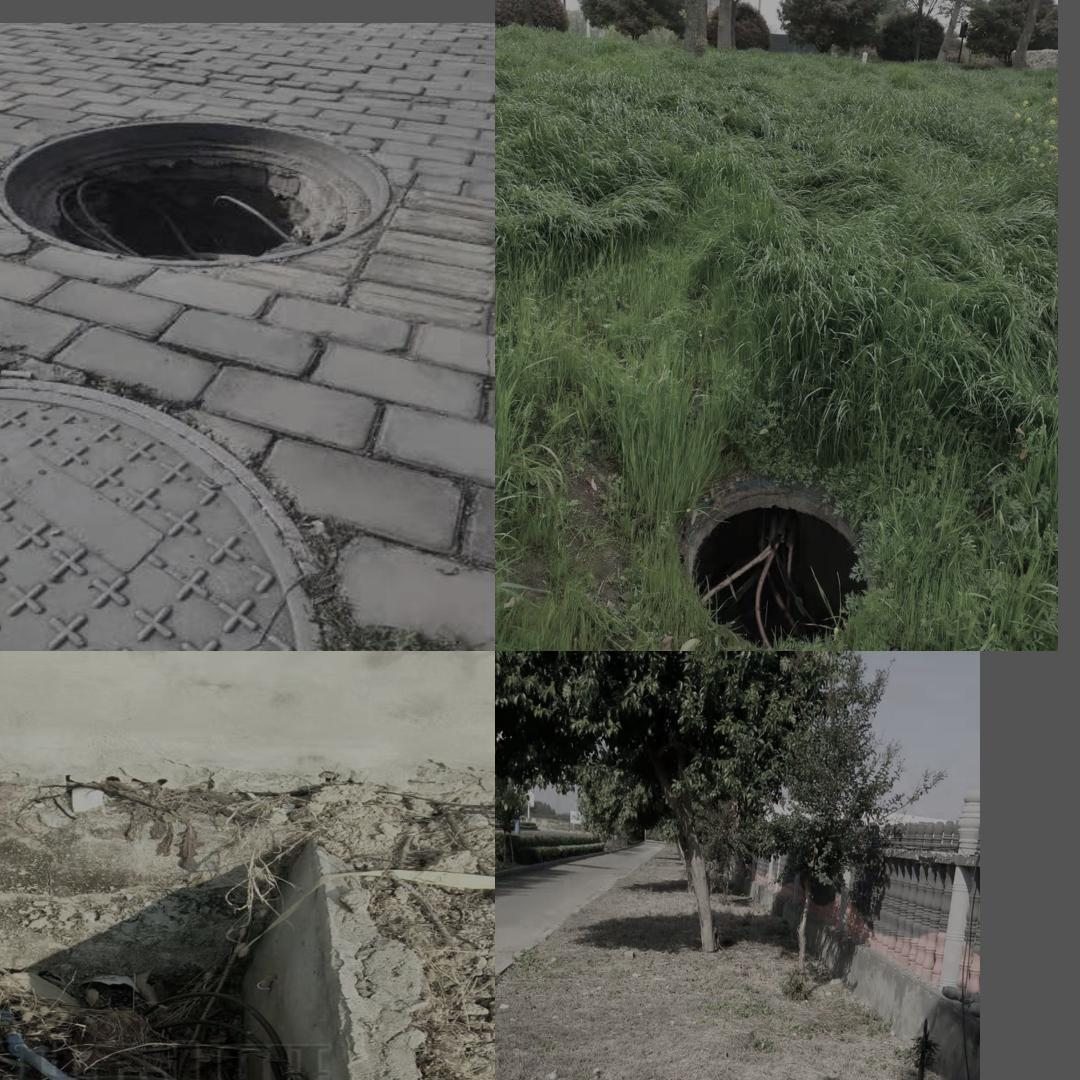lose: (0, 811, 381, 1080), (0, 376, 334, 651), (0, 117, 392, 268), (672, 485, 872, 651)
